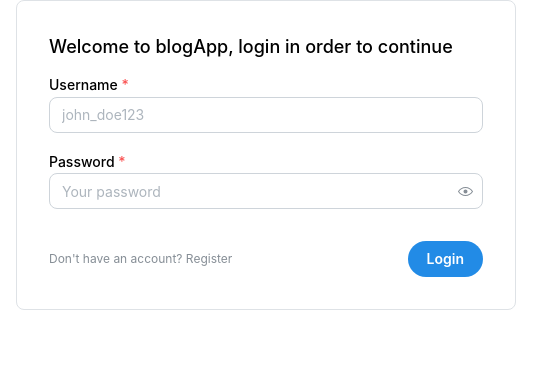
Test: Authentication › AutheticationForm › form cannot be submitted if validation fails and helpful errors are visible
Type "1" into the field with test id "usernameInput".
click(266, 115); type("1")  # box x1=49 y1=97 x2=483 y2=133
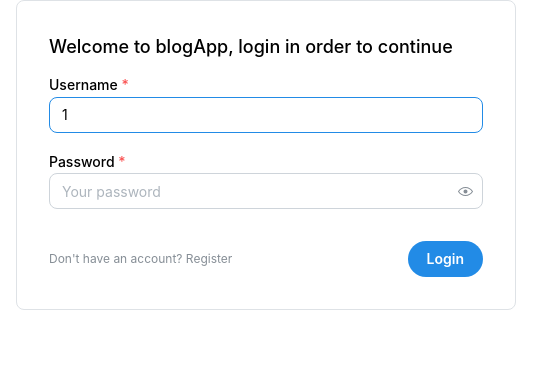
Type "1" into the password field with test id "passwordInput".
click(266, 191); type("1")  # box x1=50 y1=174 x2=482 y2=208
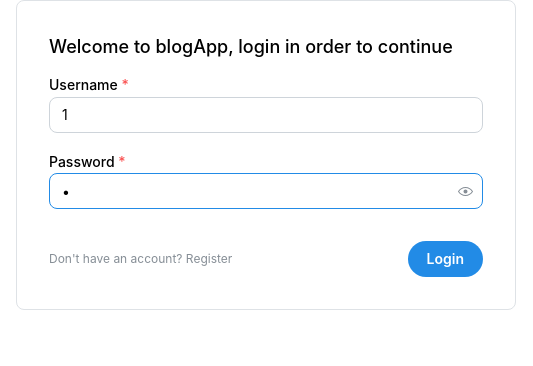
Click the button with test id "submitButton".
click(445, 259)  # box x1=408 y1=241 x2=483 y2=277
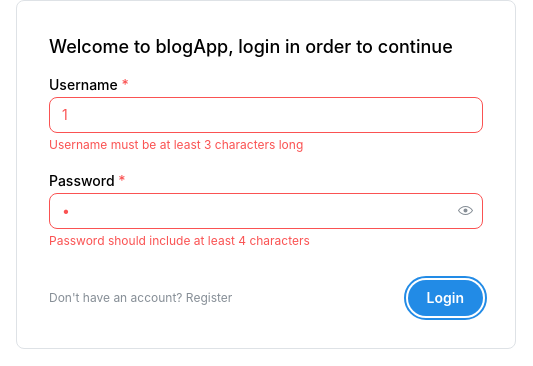
Expected: the text "Username must be at least 3 characters long" is shown, x1=49 y1=137 x2=303 y2=152
Expected: the text "Password should include at least 4 characters" is shown, x1=49 y1=233 x2=310 y2=248
